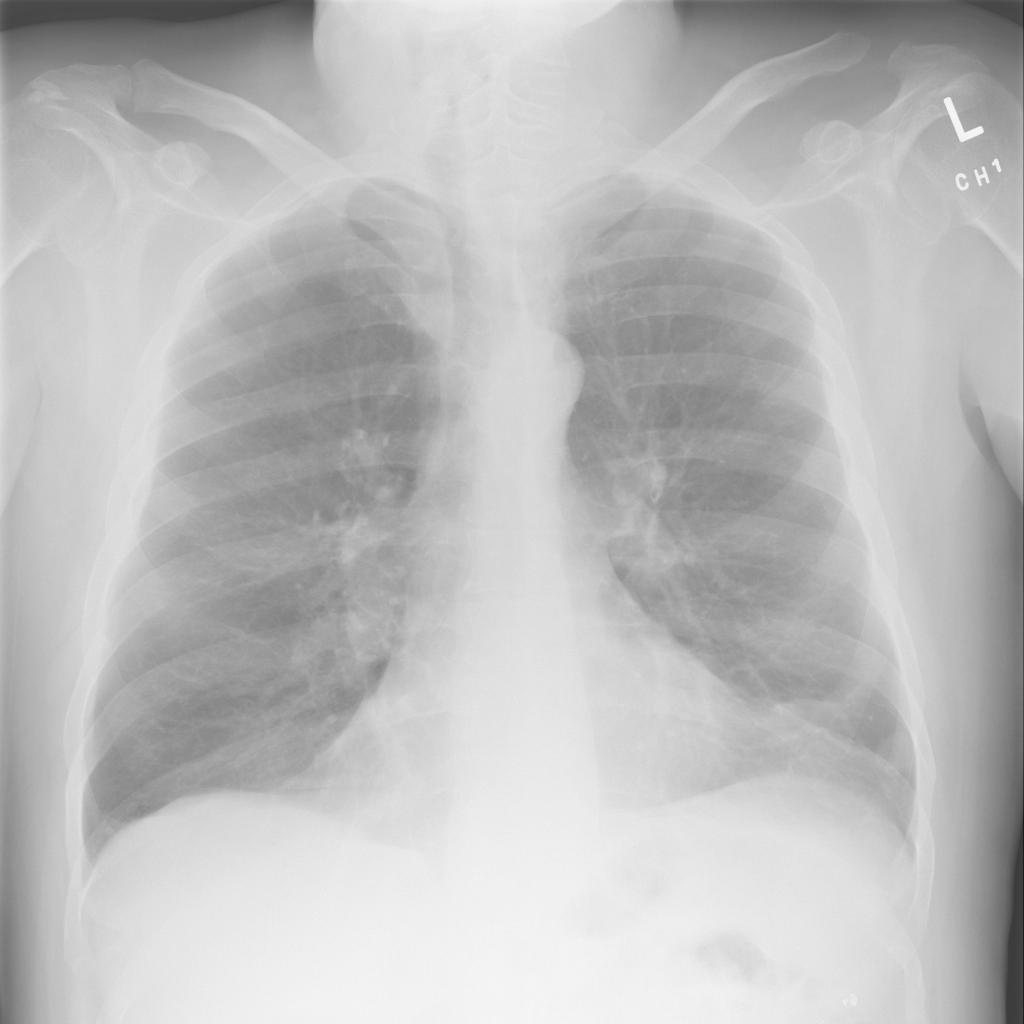Nodule: (74, 83, 93, 108), (48, 147, 58, 158)
